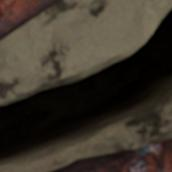brick: (53, 139, 171, 171), (0, 0, 59, 39)
crack: (0, 0, 171, 170)
